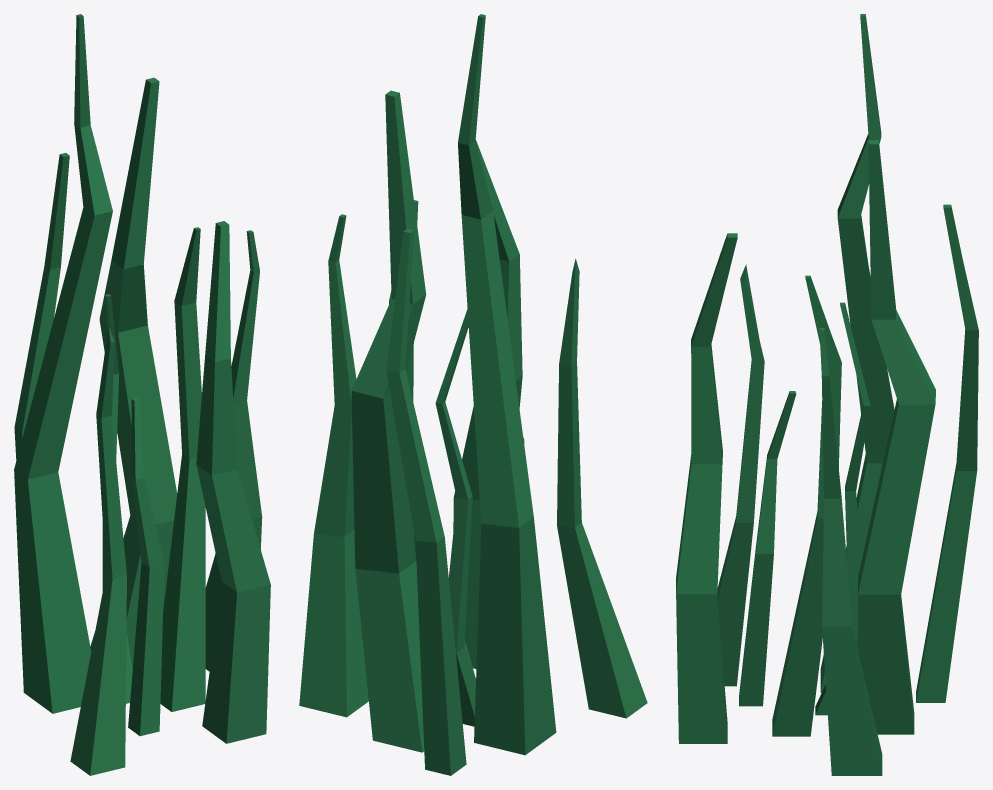
File: algen.fbx
3 views of the same model, side by side, from view 1: azimuth 30°, elevation 25°; view 2: azimuth 150°, elevation 25°; view 3: azimuth 270°, elevation 25° (orthographic). The views are drawn at different scales.
Parts seen in each view (by area): view 1: Algenstrange1, Algenstrange1.006, Algenstrange1.001, Algenstrange1.003, Algenstrange1.007, Algenstrange1.005, Algenstrange1.008, Algenstrange1.002, Algenstrange1.004; view 2: Algenstrange1, Algenstrange1.001, Algenstrange1.008, Algenstrange1.002, Algenstrange1.007, Algenstrange1.006, Algenstrange1.004; view 3: Algenstrange1.001, Algenstrange1.006, Algenstrange1.008, Algenstrange1.002, Algenstrange1, Algenstrange1.003, Algenstrange1.007, Algenstrange1.005, Algenstrange1.004.
Part boxes in pixels (box(x1,y1,x2,y2)): Algenstrange1: box(14, 14, 112, 713); Algenstrange1.006: box(196, 221, 270, 743); Algenstrange1.001: box(90, 77, 177, 668); Algenstrange1.003: box(160, 227, 205, 711); Algenstrange1.007: box(70, 326, 126, 775); Algenstrange1.005: box(128, 397, 164, 736); Algenstrange1.008: box(205, 230, 262, 671); Algenstrange1.002: box(14, 153, 69, 459); Algenstrange1.004: box(102, 294, 132, 703); Algenstrange1: box(458, 14, 556, 755); Algenstrange1.001: box(351, 90, 426, 752); Algenstrange1.008: box(299, 214, 368, 717); Algenstrange1.002: box(386, 228, 466, 775); Algenstrange1.007: box(557, 258, 647, 718); Algenstrange1.006: box(453, 139, 522, 668); Algenstrange1.004: box(435, 309, 475, 726); Algenstrange1.001: box(858, 140, 935, 734); Algenstrange1.006: box(676, 233, 737, 743); Algenstrange1.008: box(819, 328, 882, 775); Algenstrange1.002: box(916, 204, 978, 702); Algenstrange1: box(820, 14, 894, 692); Algenstrange1.003: box(772, 275, 841, 736); Algenstrange1.007: box(717, 264, 764, 686); Algenstrange1.005: box(739, 391, 796, 706); Algenstrange1.004: box(815, 302, 870, 715).
Bounding box in the file's own units: 102 × 285 × 113.
